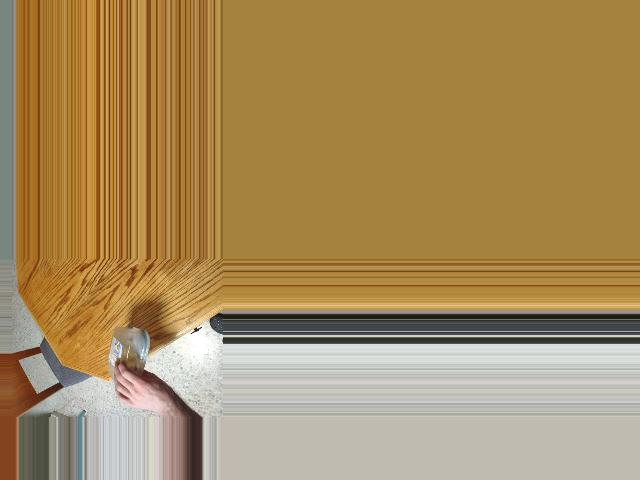cheese: (106, 338, 154, 392)
